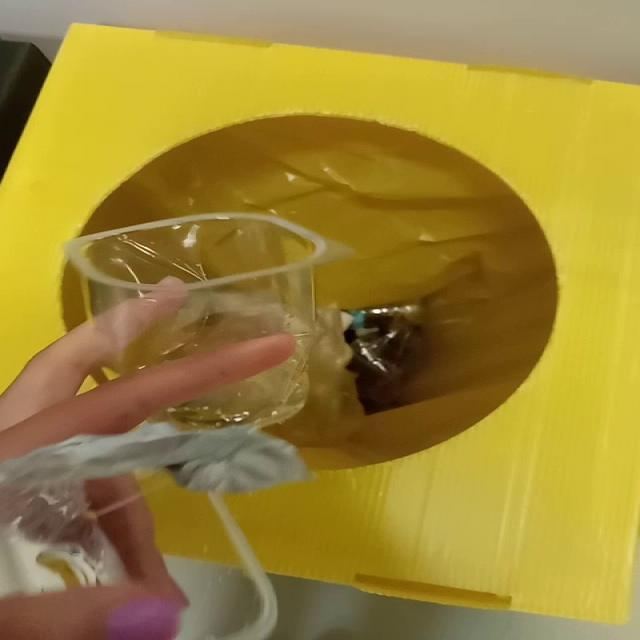Plastic: (65, 213, 351, 429)
